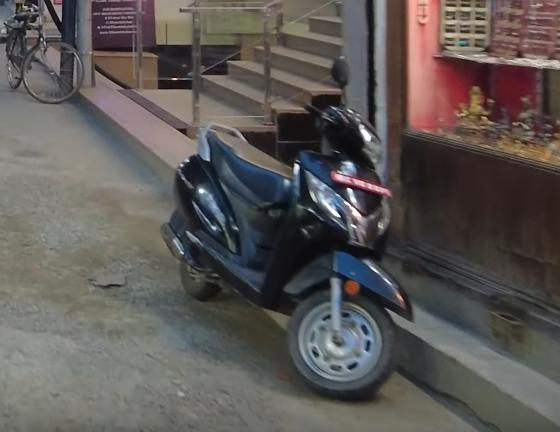scooter: (155, 76, 418, 404)
